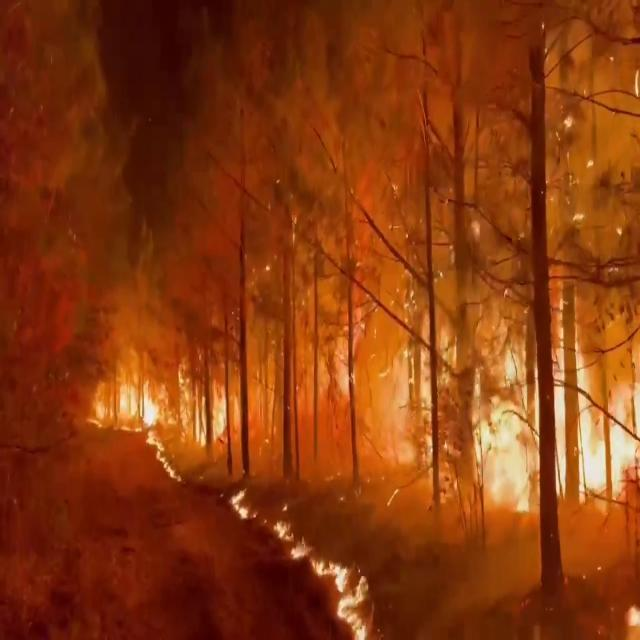Fire: (463, 311, 640, 532), (89, 354, 167, 439), (318, 549, 375, 640), (278, 512, 308, 562), (227, 481, 250, 524)
Smoke: (173, 0, 640, 467)
